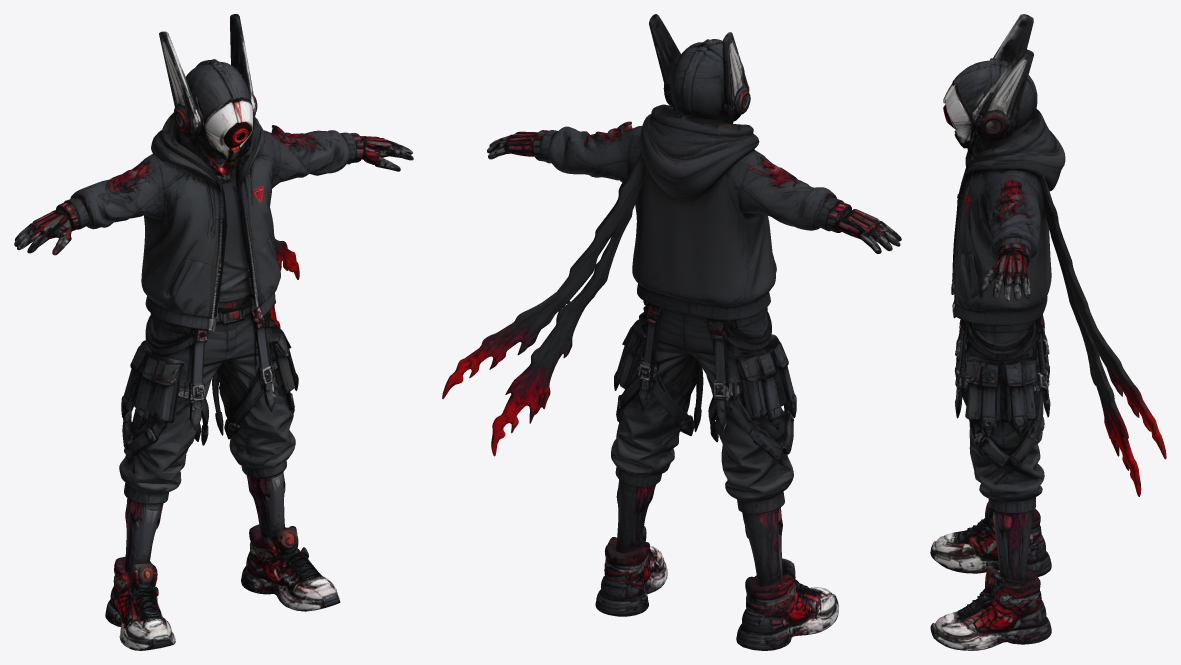
Rendered from specter.glb.
3 views of the same model, side by side, from view 1: azimuth 30°, elevation 25°; view 2: azimuth 150°, elevation 25°; view 3: azimuth 270°, elevation 25° (orthographic). The views are drawn at different scales.
Visible parts, largest first — view 1: SPECTER; view 2: SPECTER; view 3: SPECTER.
Boxes of the visible parts, x1,y1,x2,y2 form: SPECTER: (14,14,413,650); SPECTER: (442,14,901,650); SPECTER: (930,14,1166,650).
Bounding box in the file's own units: 0.7751 × 1.08 × 0.4058.
Materials: 1 (1 with a texture image).
